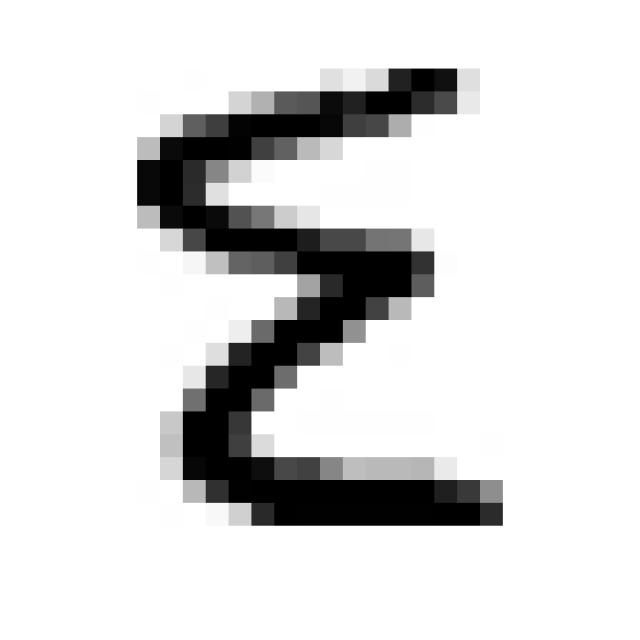4 -four-: (117, 48, 519, 554)
